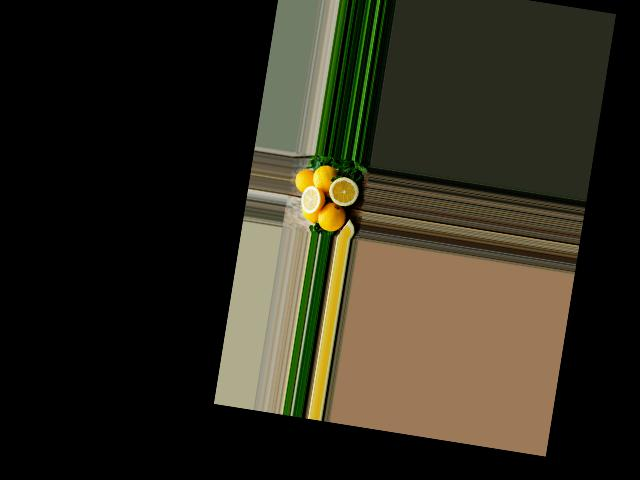lemon: (300, 206, 321, 225)
